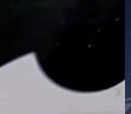physical_damage: (45, 27, 125, 114), (62, 0, 125, 32)
screen_defect: (0, 0, 125, 101), (0, 0, 131, 23)
